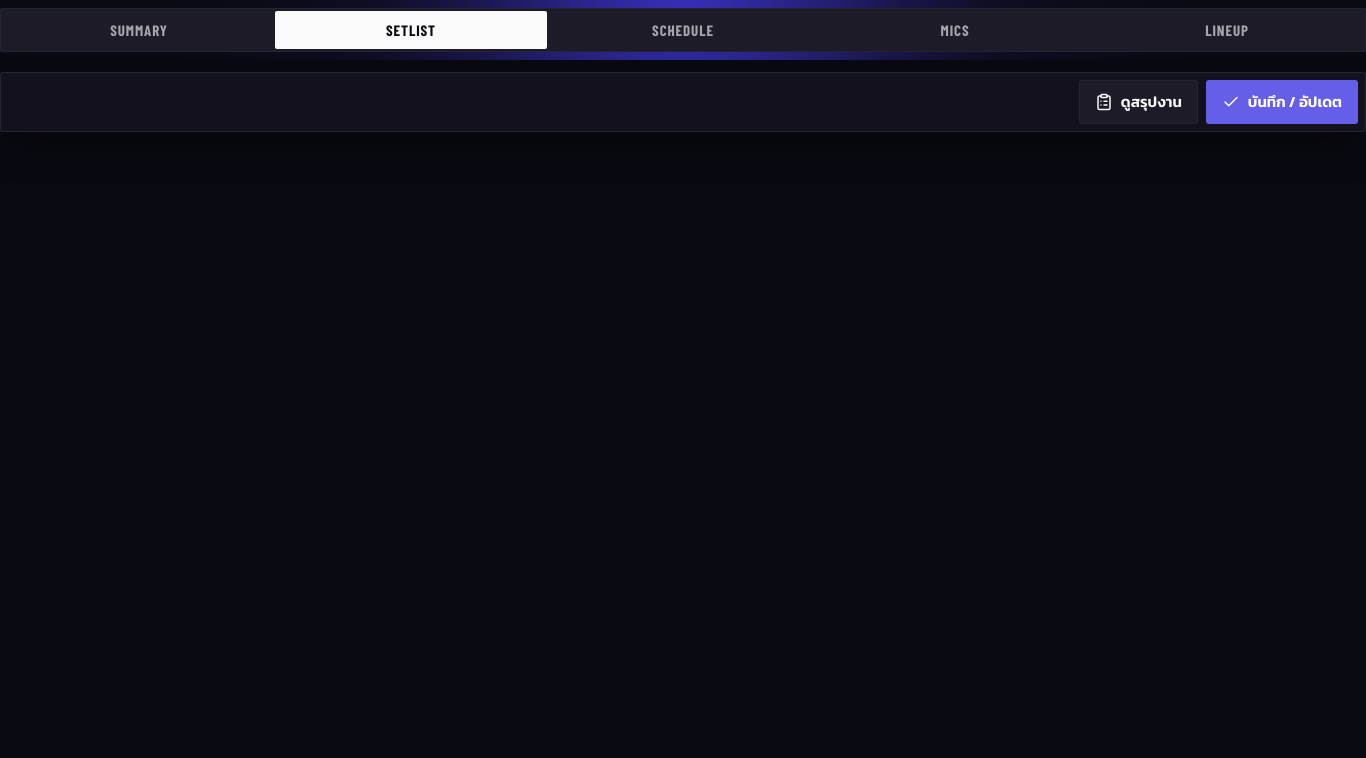
Scenario: PushNudge · the event editors' save bars hold the same slot › waits while the workspace's save bar is up, and comes back on the Summary
Expected: the button "บันทึก / อัปเดต" is shown, [1206, 80, 1358, 124]
# the Summary has no save bar — the question was only waiting, not answered
Click the tab "Summary": (139, 30) [3, 11, 275, 49]
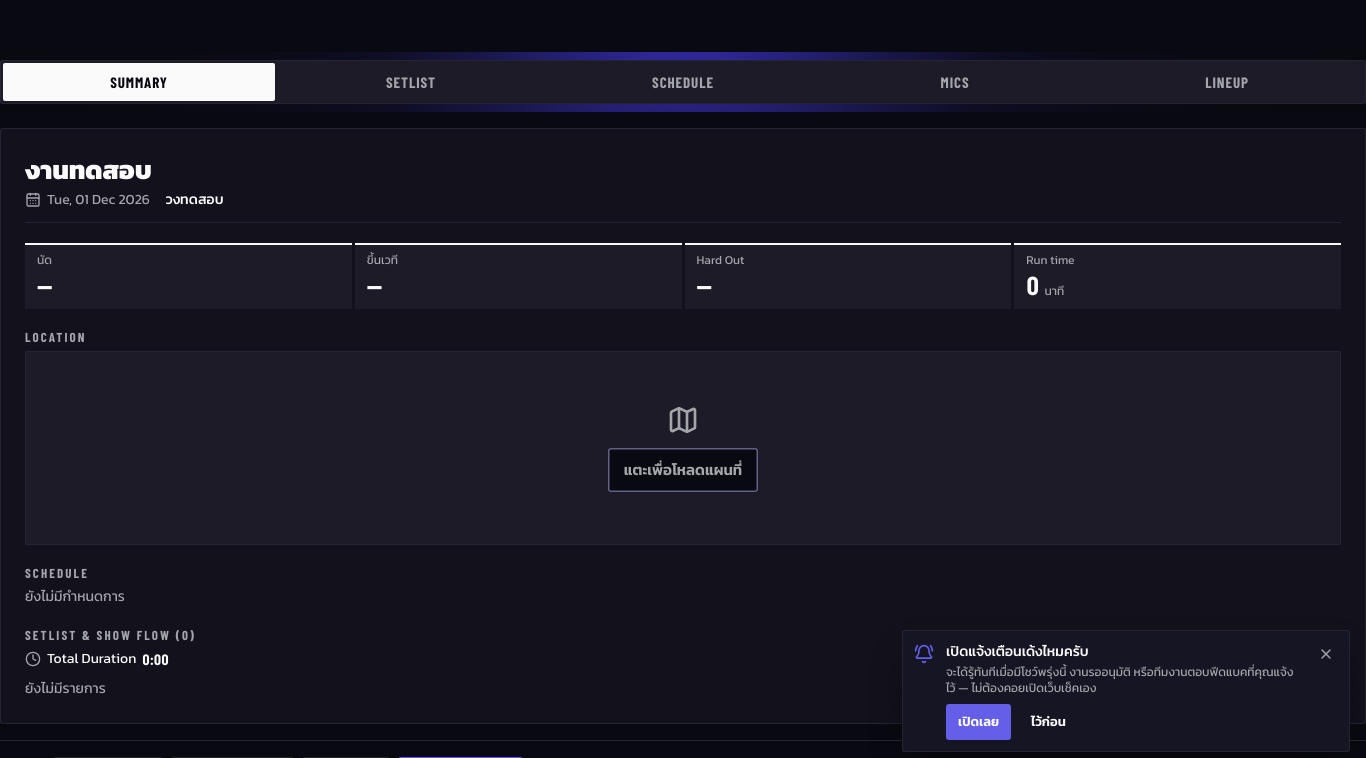
Now the button "บันทึก / อัปเดต" is gone
Now the element with test id "push-nudge" is shown, box [902, 630, 1350, 752]
